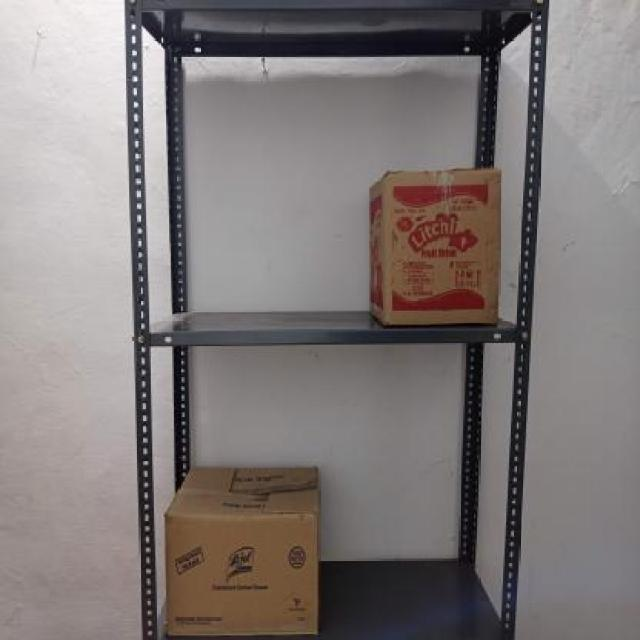box: (165, 513, 319, 636), (384, 172, 500, 325)
